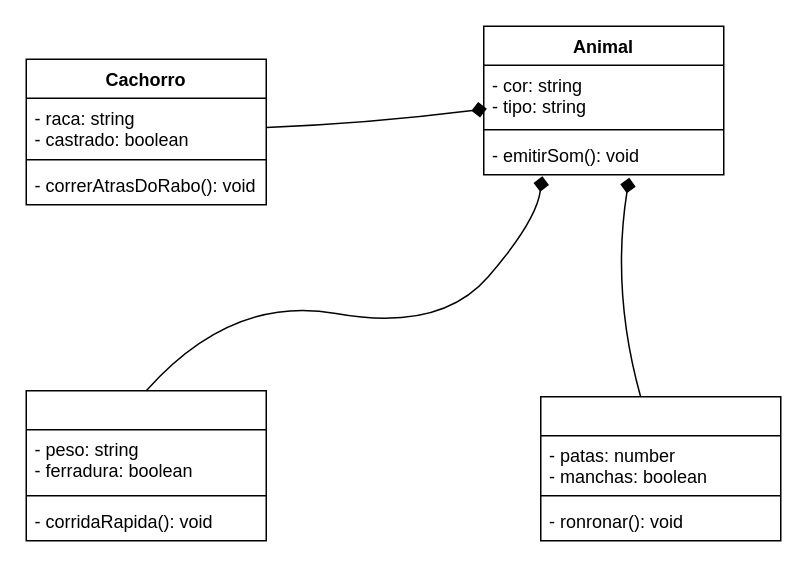
Some shapes in this 807 by 572 pixel diagram are drawn without their labels. Here are the shapes that lost their labels. From the top down, the box of each, then its label:
(25, 389, 266, 541): Cavalo
(539, 395, 781, 541): Gato
